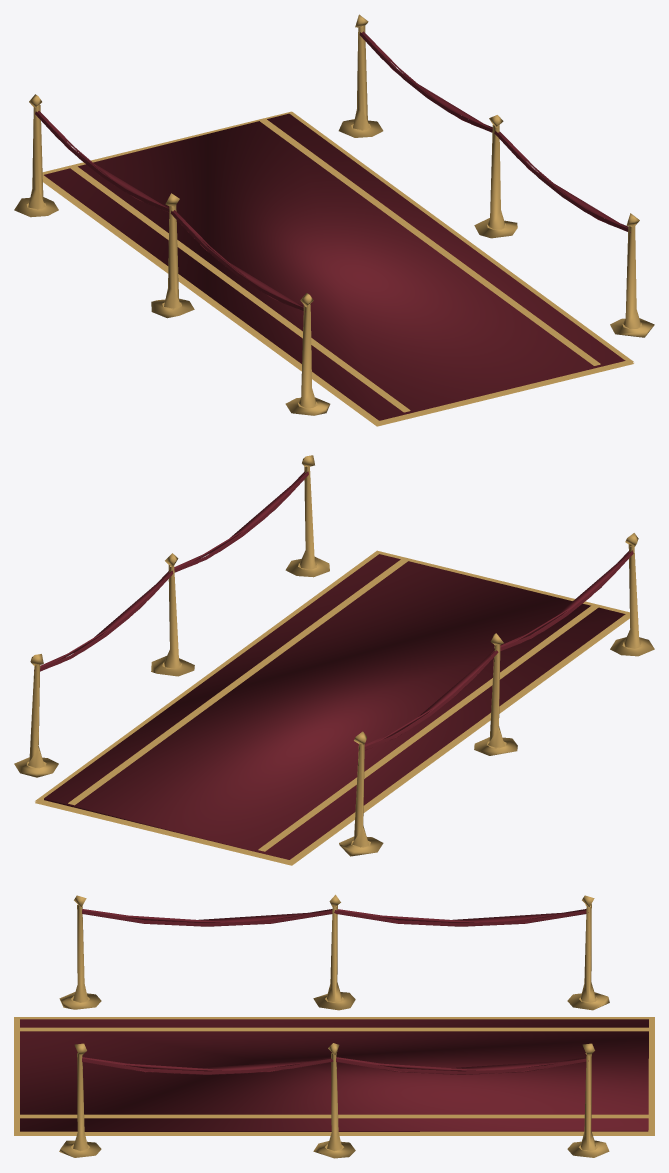
The model's file is lod_red_carpet_short.glb.
3 renders of one model, top to bottom at view 1: azimuth 30°, elevation 25°; view 2: azimuth 150°, elevation 25°; view 3: azimuth 270°, elevation 25°, orthographic. The views are drawn at different scales.
Parts seen in each view (by area): view 1: red_carpet_short; view 2: red_carpet_short; view 3: red_carpet_short.
Boxes of the visible parts, x1,y1,x2,y2 form: red_carpet_short: [14, 14, 654, 426]; red_carpet_short: [14, 455, 654, 865]; red_carpet_short: [14, 894, 654, 1158].
Size of the model in its own units: 3.27 by 0.9912 by 5.3.
